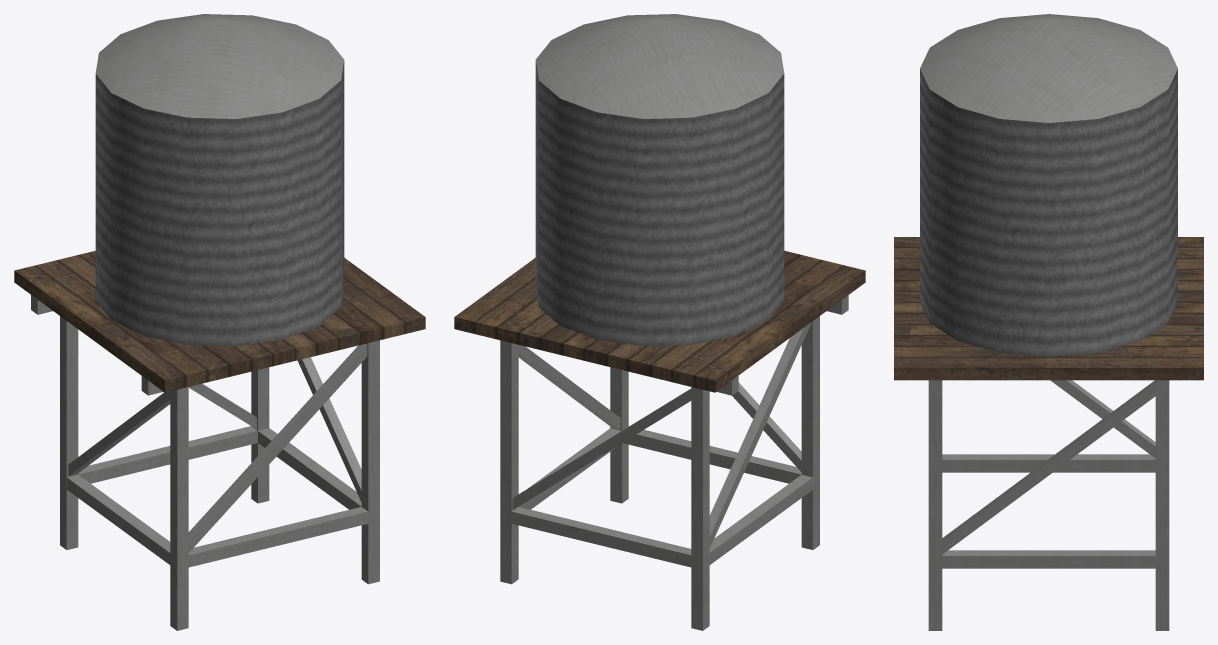
The model's file is water-tank-stand-2x2-cbj_LOD01.gltf.
3 views of the same model, side by side, from view 1: azimuth 30°, elevation 25°; view 2: azimuth 150°, elevation 25°; view 3: azimuth 270°, elevation 25° (orthographic). The views are drawn at different scales.
Parts seen in each view (by area): view 1: tank1; view 2: tank1; view 3: tank1.
Boxes of the visible parts, left/top/right/bottom form: tank1: left=14, top=14, right=425, bottom=630; tank1: left=454, top=14, right=865, bottom=630; tank1: left=894, top=14, right=1203, bottom=630.
Size of the model in its own units: 1.8 by 3.58 by 1.8.
